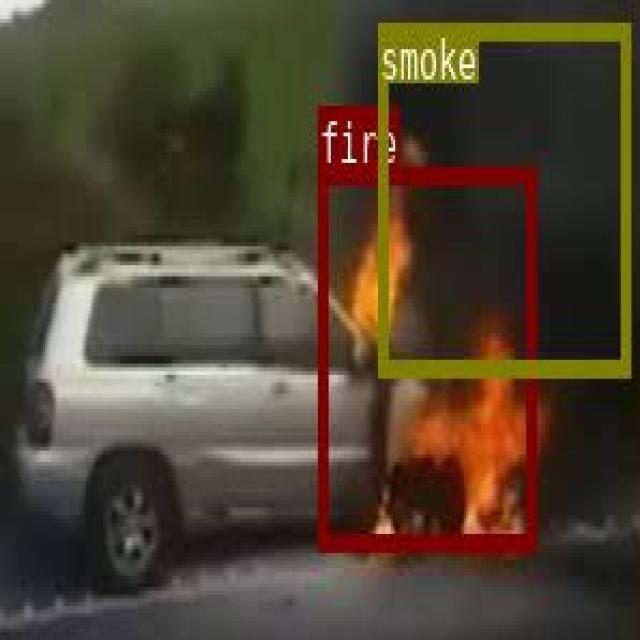fire: (318, 164, 534, 548)
smoke: (378, 19, 628, 374)
